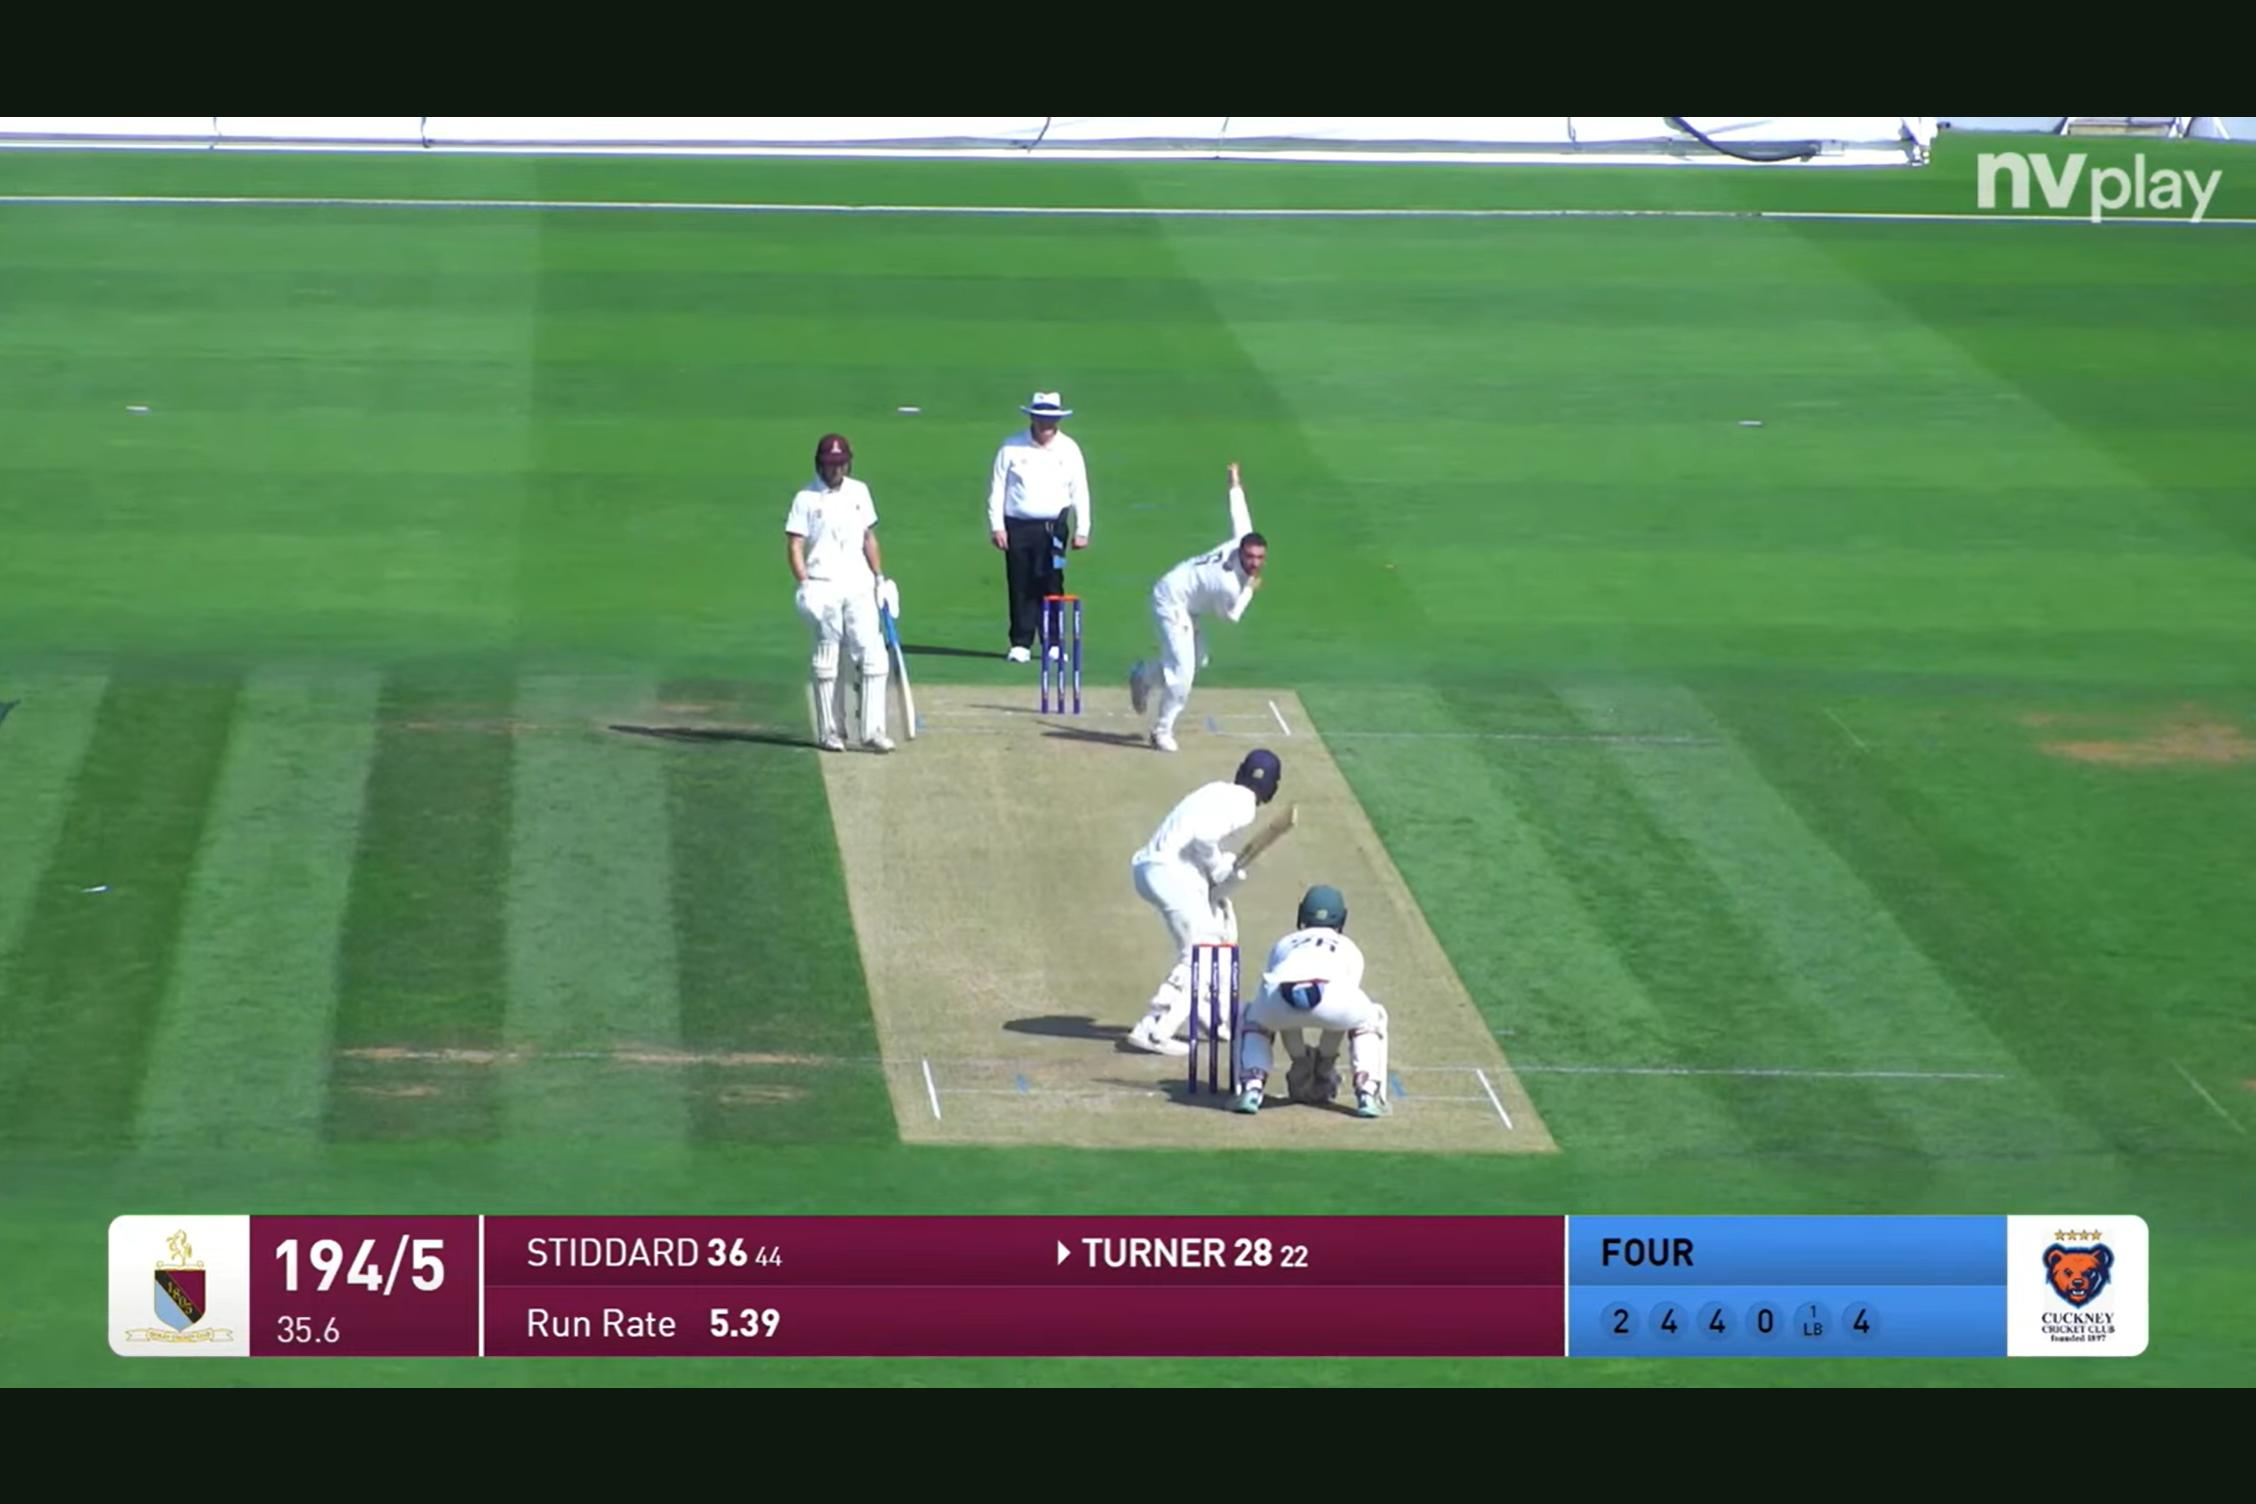bowler running in: (1120, 448, 1298, 754)
non striker: (769, 408, 932, 769)
umpire: (989, 358, 1101, 663)
wicket keeper: (1224, 868, 1450, 1136)
